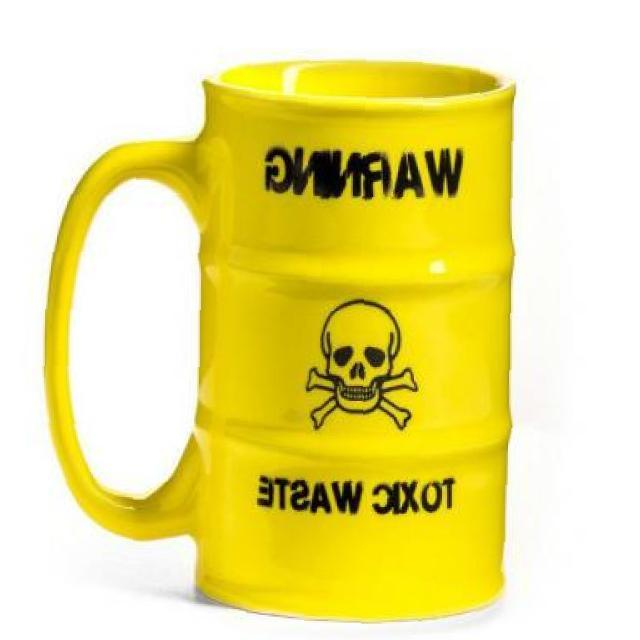cup: (29, 44, 527, 634)
